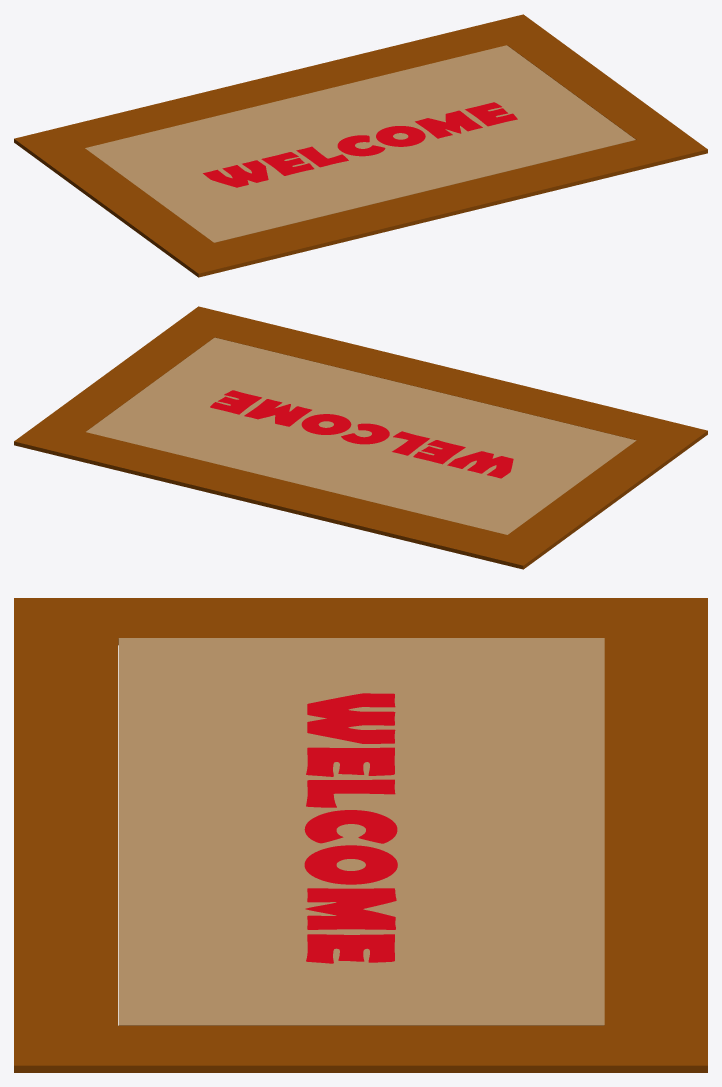
The model's file is rug.glb.
3 renders of one model, top to bottom at view 1: azimuth 30°, elevation 25°; view 2: azimuth 150°, elevation 25°; view 3: azimuth 270°, elevation 25°, orthographic. The views are drawn at different scales.
Parts seen in each view (by area): view 1: rug1, rug2, Text; view 2: rug1, rug2, Text; view 3: rug1, rug2, Text.
Part boxes in pixels (<box>): rug1: <box>85,45,635,242</box>; rug2: <box>14,14,707,277</box>; Text: <box>203,102,517,187</box>; rug1: <box>86,337,636,534</box>; rug2: <box>14,306,707,569</box>; Text: <box>210,390,513,478</box>; rug1: <box>118,638,604,1025</box>; rug2: <box>14,598,707,1072</box>; Text: <box>304,693,397,963</box>.
Size of the model in its own units: 3.19 by 0.0263 by 2.
